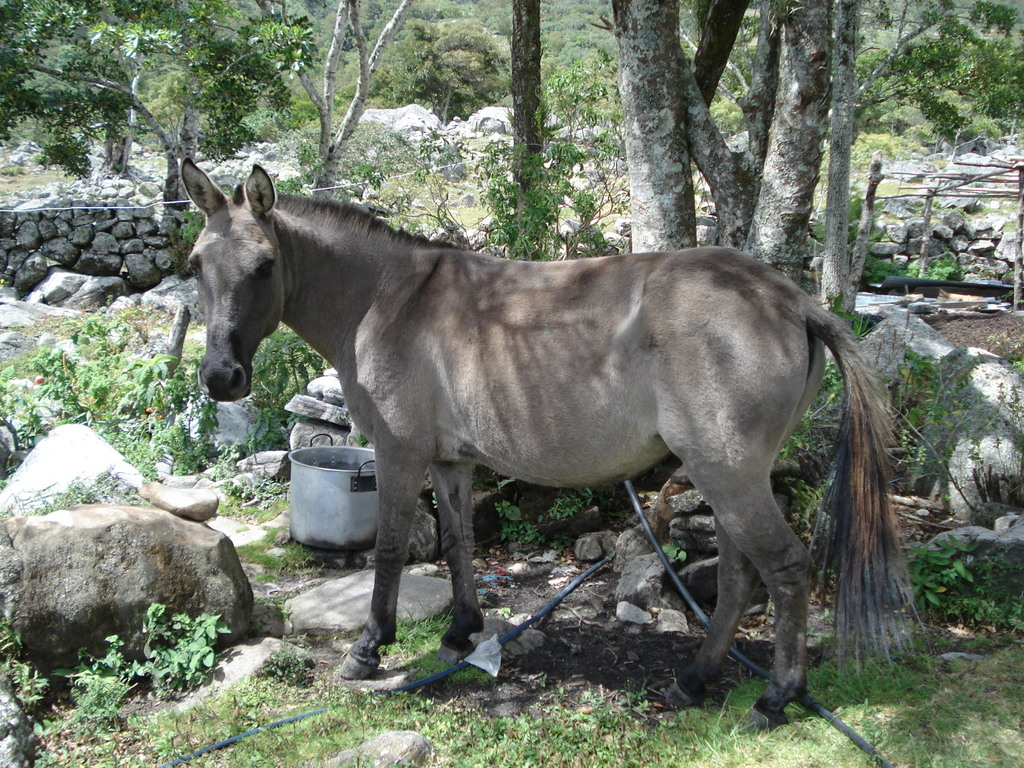horse: (179, 156, 933, 735)
